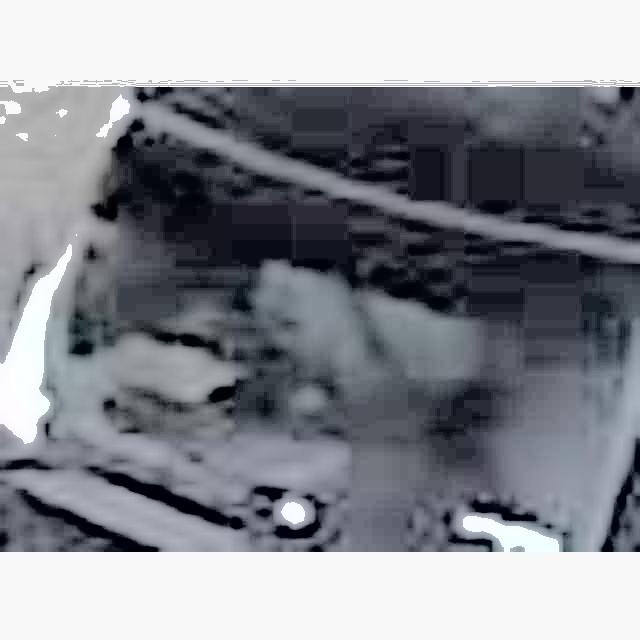pakai: (211, 225, 473, 429)
